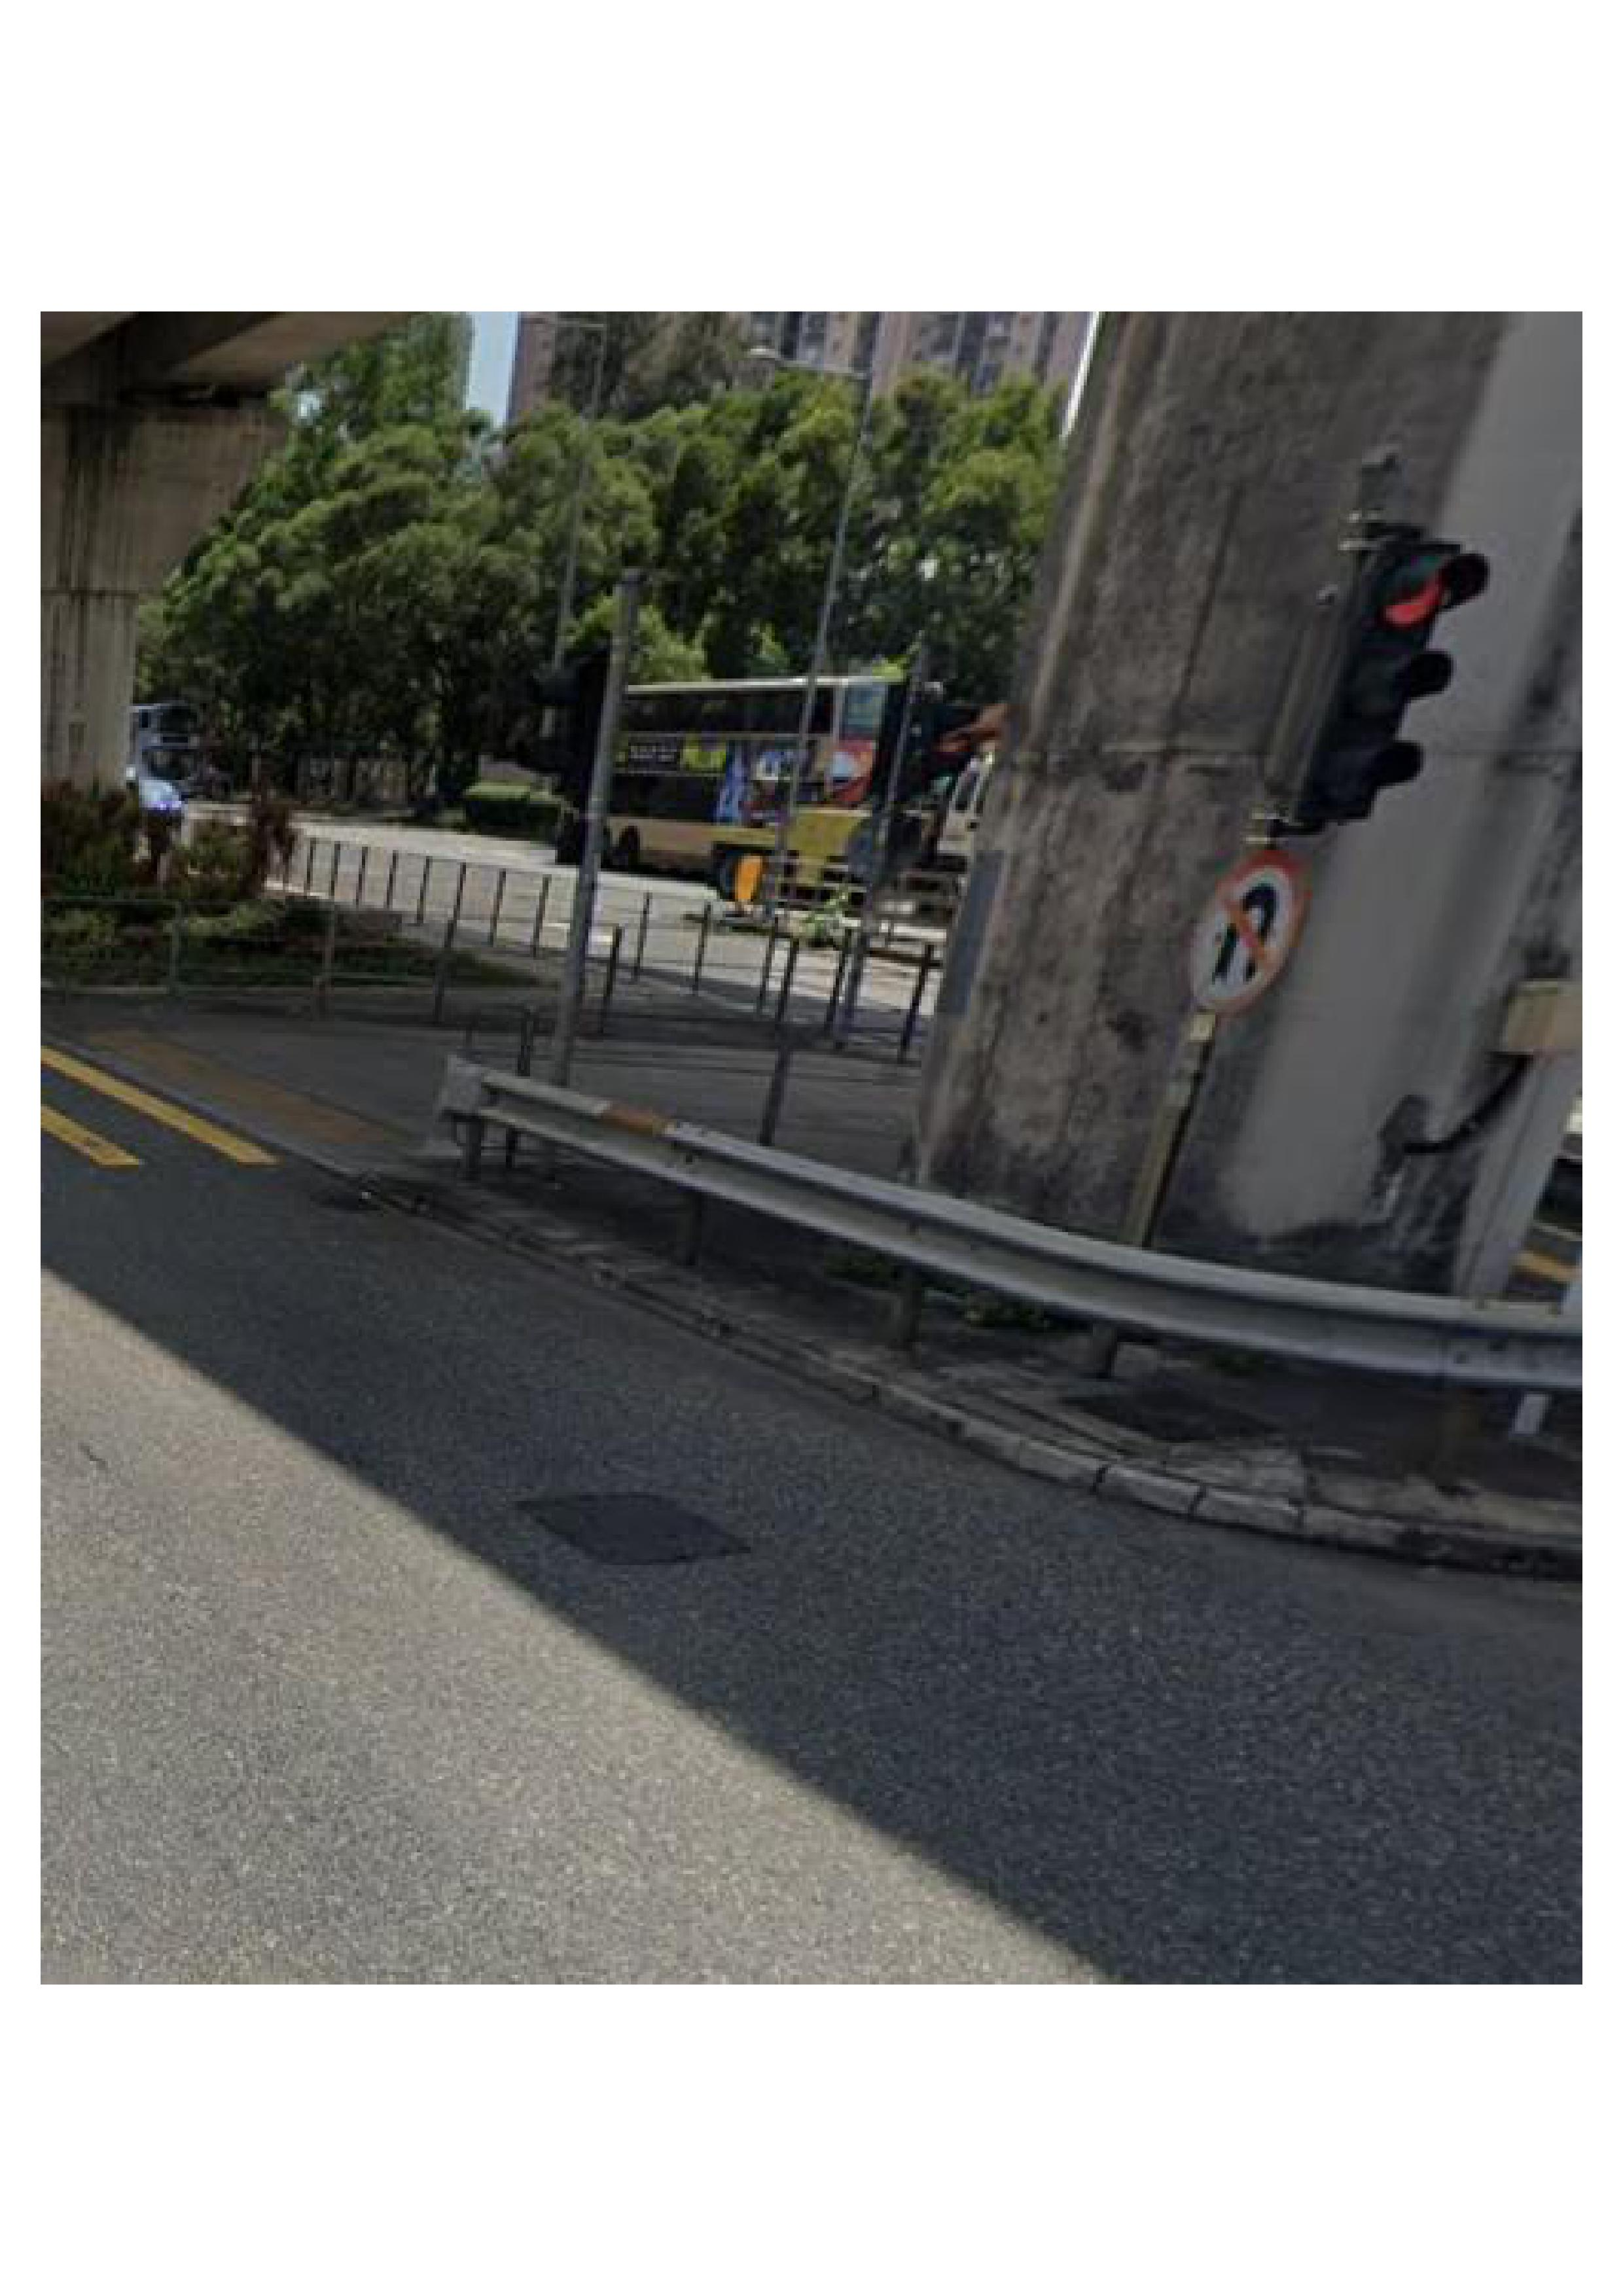No Uturn: (1186, 843, 1305, 1025)
